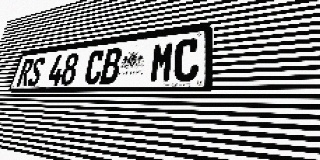4: (46, 54, 67, 86)
8: (59, 53, 80, 85)
B: (99, 47, 123, 84)
C: (172, 38, 200, 82), (83, 49, 106, 85)
M: (149, 41, 175, 83)
R: (16, 58, 35, 86)
S: (26, 57, 46, 86)
